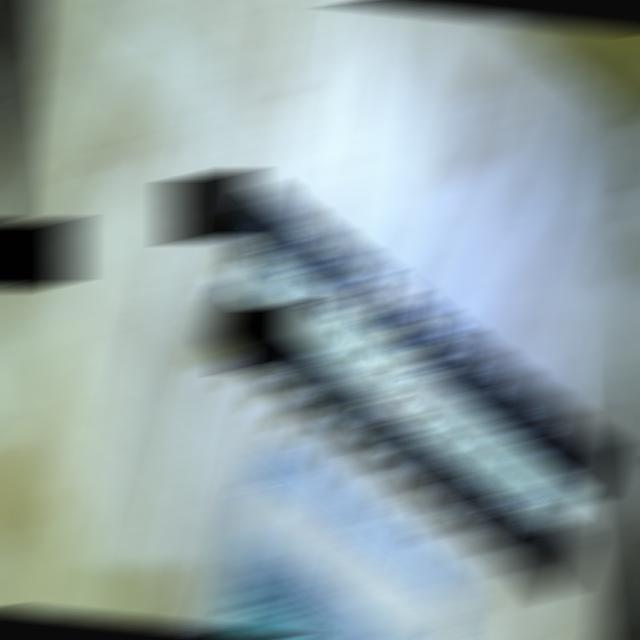Phillips_Block: (165, 187, 640, 597)
